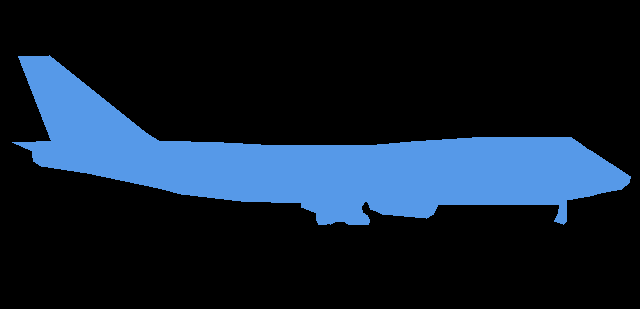Airplane: (12, 55, 631, 225)
